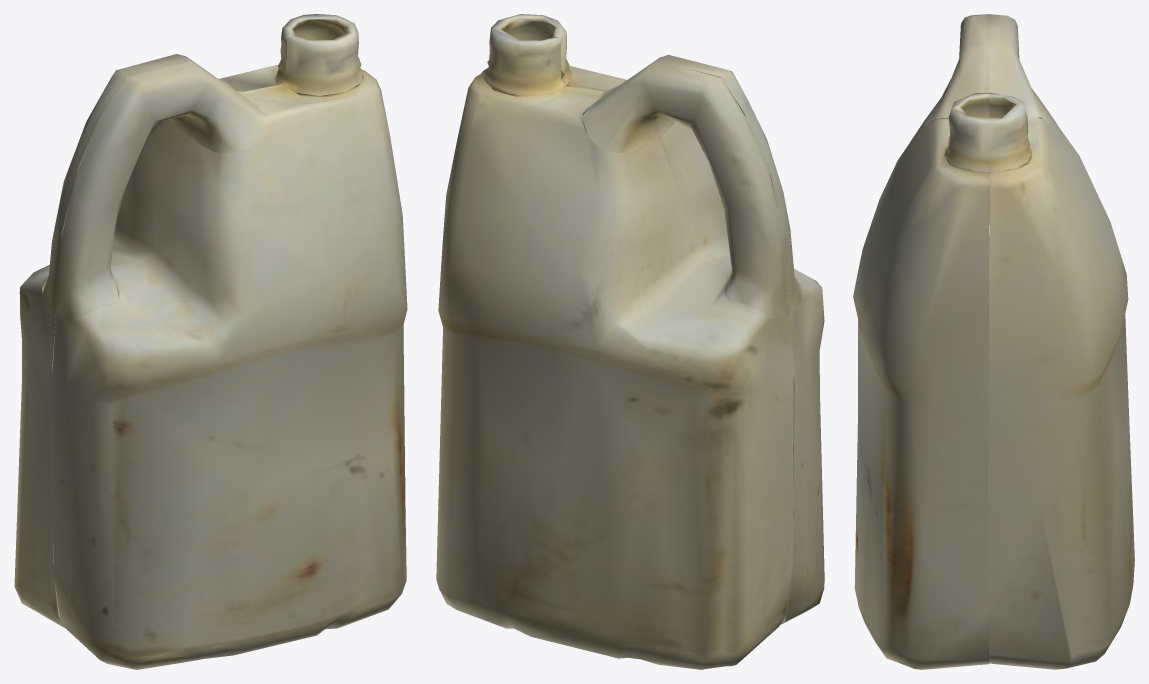
Rendered from ph_plastic_bottle_gallon.glb.
The picture shows the model from 3 angles, left to right: view 1: azimuth 30°, elevation 25°; view 2: azimuth 150°, elevation 25°; view 3: azimuth 270°, elevation 25°; orthographic projection.
Visible parts, largest first — view 1: plastic_bottle_gallon; view 2: plastic_bottle_gallon; view 3: plastic_bottle_gallon.
Part boxes in pixels (x1=…): plastic_bottle_gallon: x1=14, y1=14, x2=407, y2=669; plastic_bottle_gallon: x1=436, y1=14, x2=824, y2=669; plastic_bottle_gallon: x1=853, y1=14, x2=1134, y2=669.
Size of the model in its own units: 0.1667 by 0.2745 by 0.127.
Materials: 1 (1 with a texture image).
